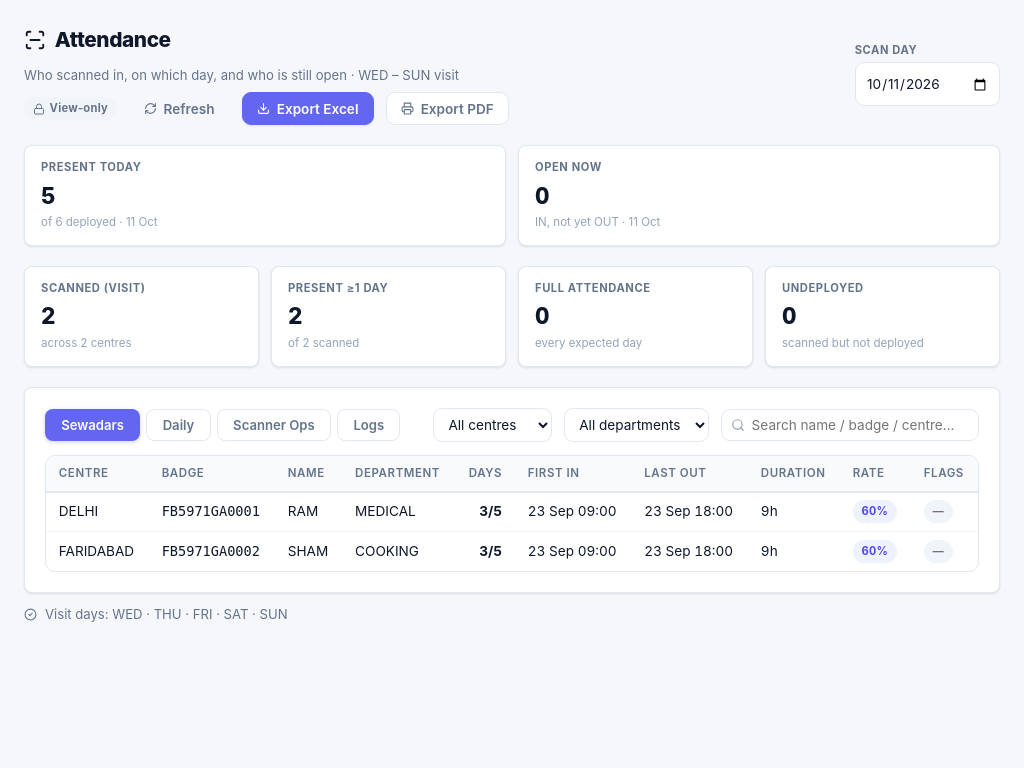
Test: A5 — an empty scan day is never sent to Postgres › skips the date-keyed RPCs and explains why, instead of claiming no data
The image size is (1024, 768).
Clear the date field named "Scan day" at x=927, y=84, box [855,62,1000,106]
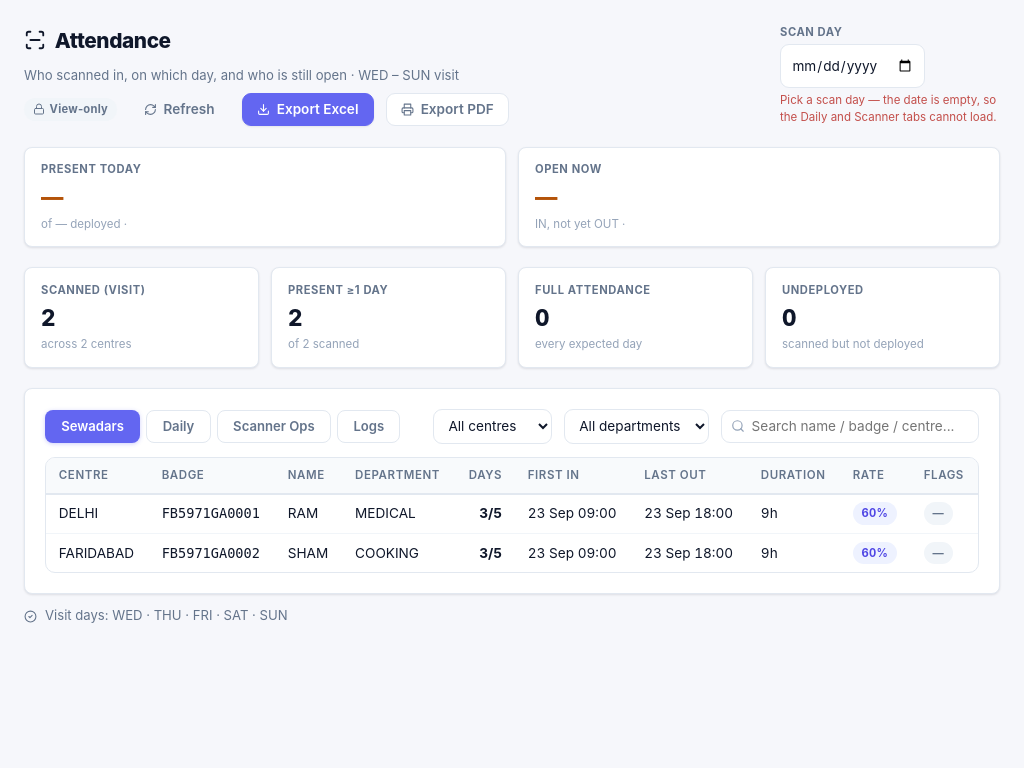
Expected: the text "Pick a scan day" is shown, [780,93,997,124]
